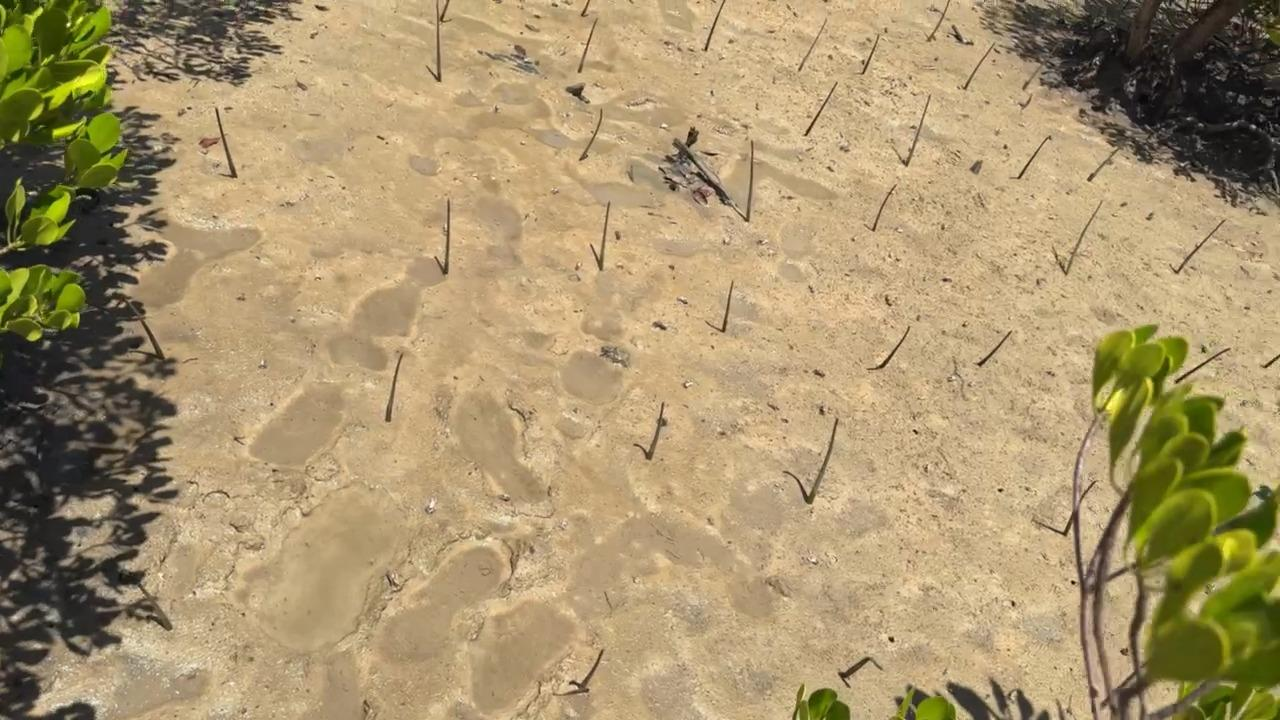Tree: (807, 418, 839, 504), (1066, 201, 1102, 277), (123, 298, 167, 359), (1176, 220, 1224, 272), (1175, 349, 1229, 384), (214, 104, 239, 178), (1064, 482, 1098, 536), (906, 94, 931, 166), (1022, 42, 1059, 89), (138, 582, 173, 630), (805, 83, 837, 135), (799, 16, 827, 70), (965, 43, 996, 89), (1017, 137, 1050, 180), (385, 353, 404, 421), (880, 325, 910, 367), (1088, 146, 1121, 183), (580, 109, 603, 161), (873, 184, 898, 231), (978, 330, 1011, 365), (579, 649, 605, 689), (647, 401, 664, 461), (706, 0, 726, 50), (579, 20, 597, 73), (598, 200, 611, 270), (840, 658, 882, 679), (930, 0, 949, 39), (745, 140, 754, 221), (722, 279, 735, 331), (862, 36, 878, 76), (442, 198, 450, 273), (436, 0, 442, 83), (439, 0, 450, 21), (1265, 353, 1280, 366), (581, 0, 590, 15)
